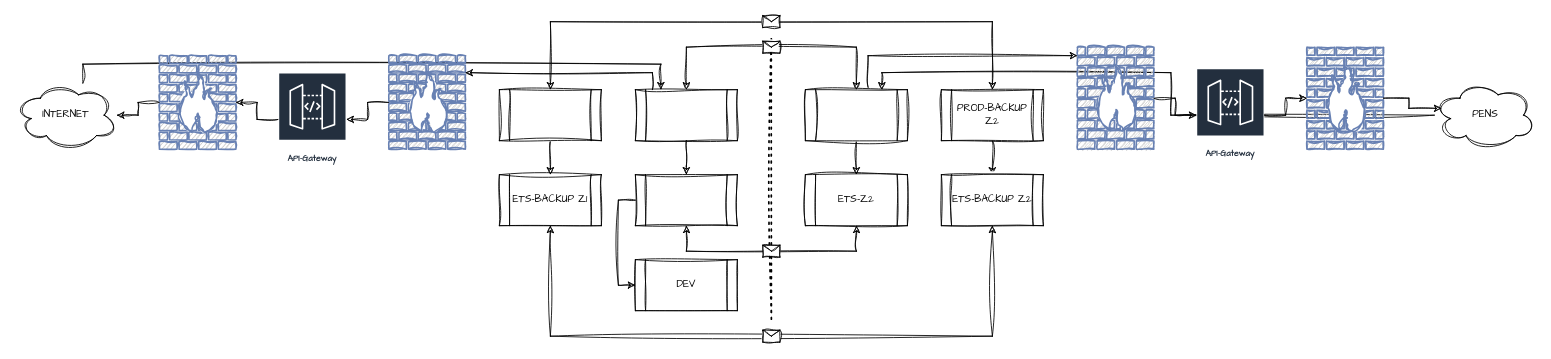
Some shapes in this 1551 by 359 pixel diagram are drawn without their labels. The centre of each missing label's shape, as x and y in pixels:
ETS-Z1: point (686, 200)
PROD Z1: point (686, 115)
PROD Z2: point (856, 115)
PROD-BACKUP Z1: point (550, 115)
